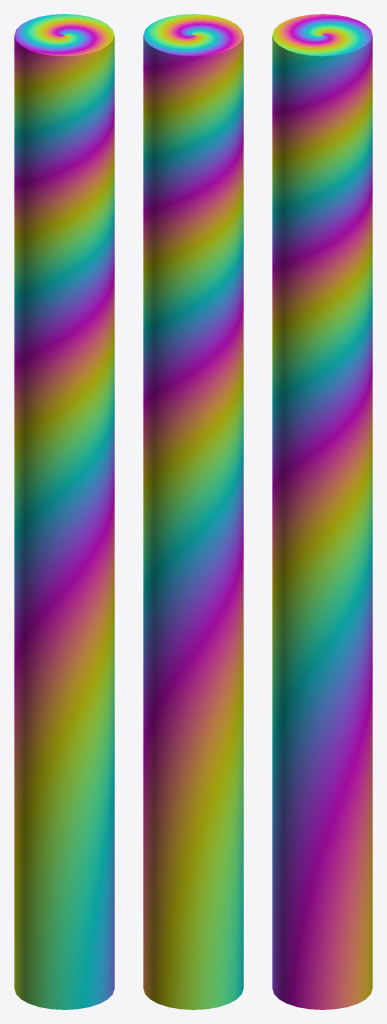
File: Rod.obj
The picture shows the model from 3 angles, left to right: view 1: azimuth 90°, elevation 25°; view 2: azimuth 150°, elevation 25°; view 3: azimuth 270°, elevation 25°; orthographic projection.
Bounding box in the file's own units: 0.1902 × 2 × 0.1902.
1 material, 1 textured.
